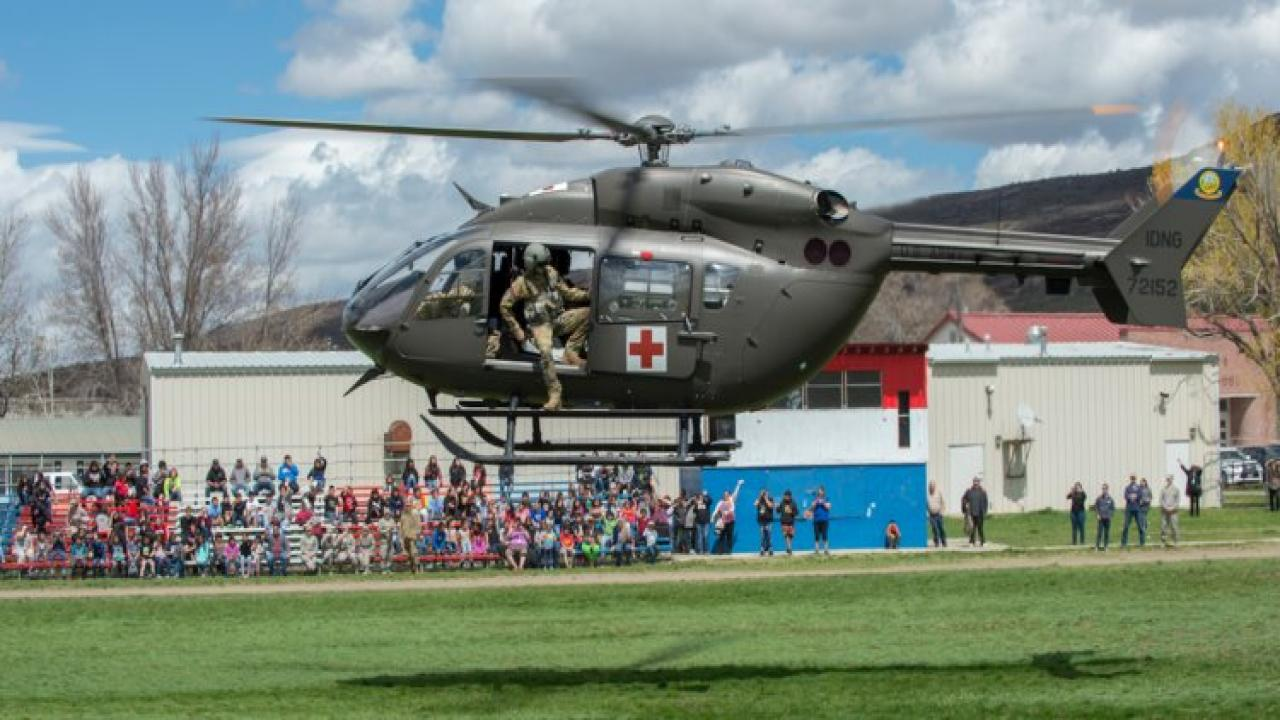Helicopter: (177, 48, 1263, 512)
